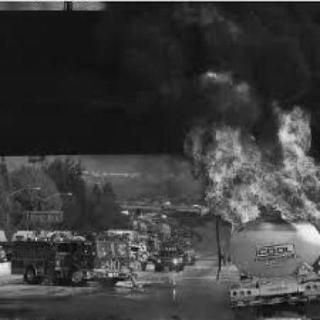other: (1, 223, 187, 283), (252, 241, 292, 267)
